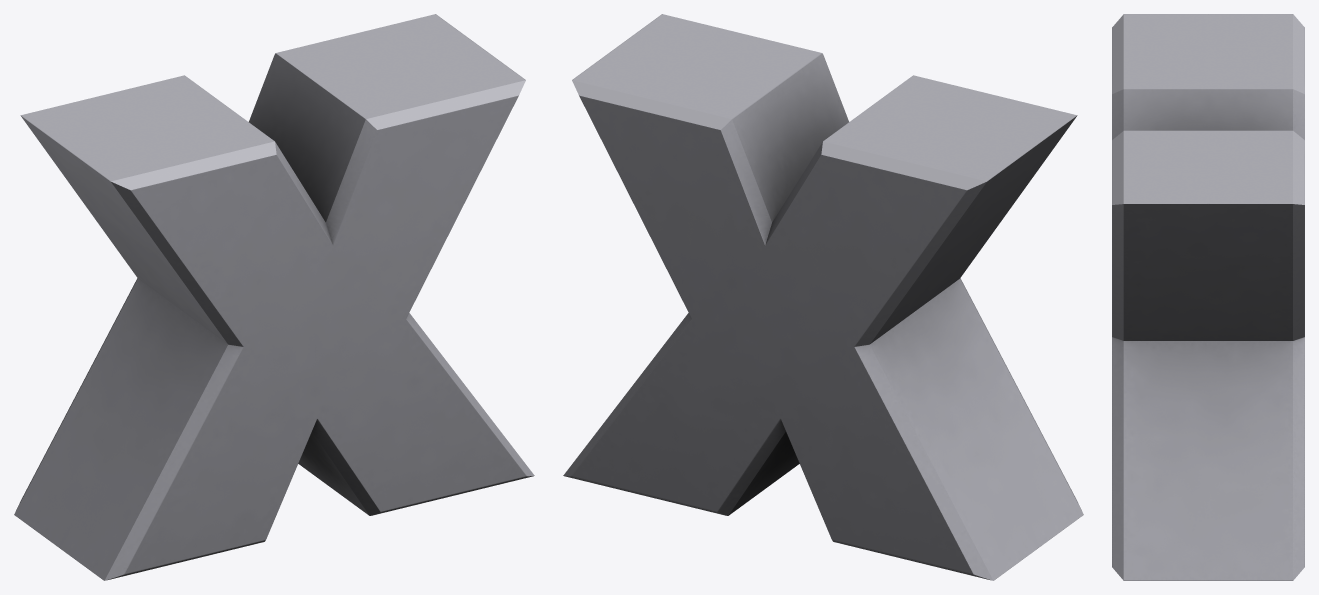
File: x_lowc_static.fbx
The picture shows the model from 3 angles, left to right: view 1: azimuth 30°, elevation 25°; view 2: azimuth 150°, elevation 25°; view 3: azimuth 270°, elevation 25°; orthographic projection. The views are drawn at different scales.
Parts seen in each view (by area): view 1: x_lowc_static; view 2: x_lowc_static; view 3: x_lowc_static.
Part boxes in pixels (bbox=[...]): x_lowc_static: bbox=[14, 14, 534, 580]; x_lowc_static: bbox=[563, 14, 1083, 580]; x_lowc_static: bbox=[1112, 14, 1304, 580].
Size of the model in its own units: 79.79 by 70.48 by 33.
